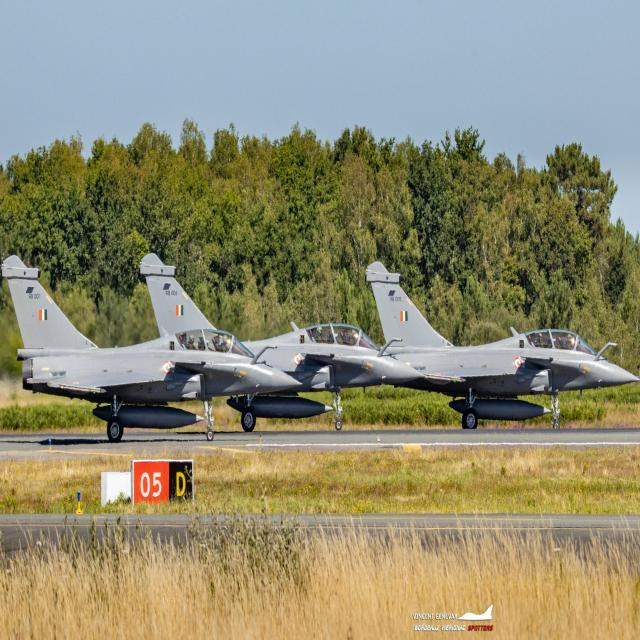MIL_Plane: (1, 255, 303, 441), (139, 253, 426, 432), (365, 261, 640, 429)
